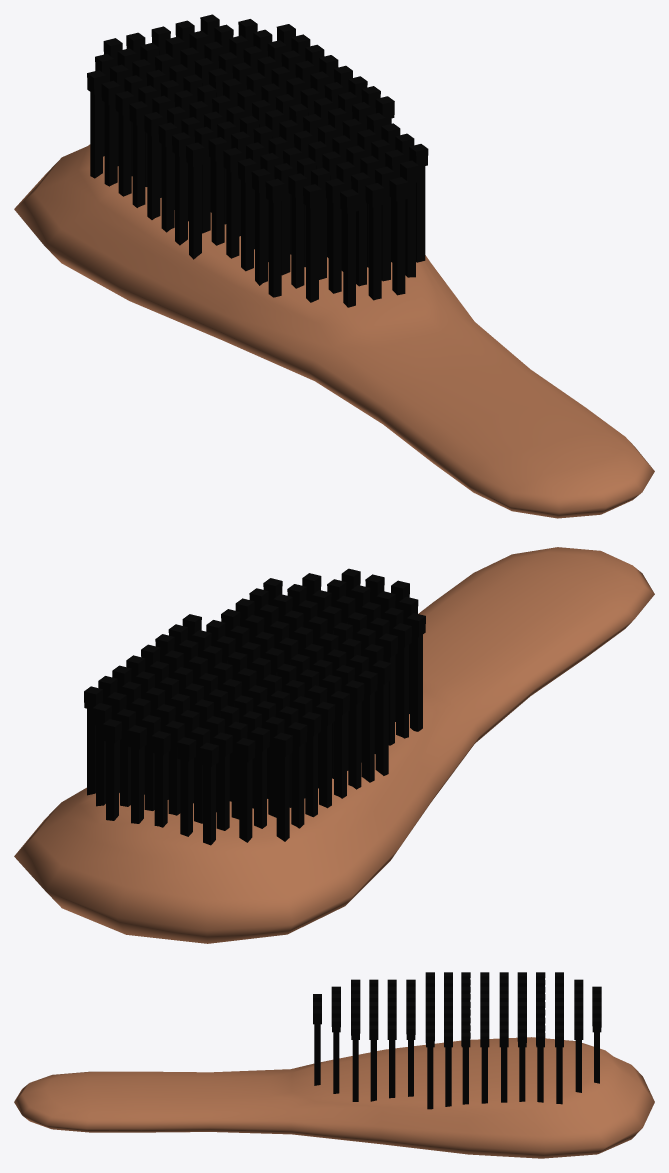
Rendered from Hairbrush.fbx.
The picture shows the model from 3 angles, top to bottom: view 1: azimuth 30°, elevation 25°; view 2: azimuth 150°, elevation 25°; view 3: azimuth 270°, elevation 25°; orthographic projection. The views are drawn at different scales.
Parts seen in each view (by area): view 1: pCube145; view 2: pCube145; view 3: pCube145.
Part boxes in pixels (bbox=[...]): pCube145: bbox=[14, 14, 654, 518]; pCube145: bbox=[14, 547, 654, 943]; pCube145: bbox=[14, 972, 654, 1158].
Bounding box in the file's own units: 4.45 × 2.7 × 12.21.
